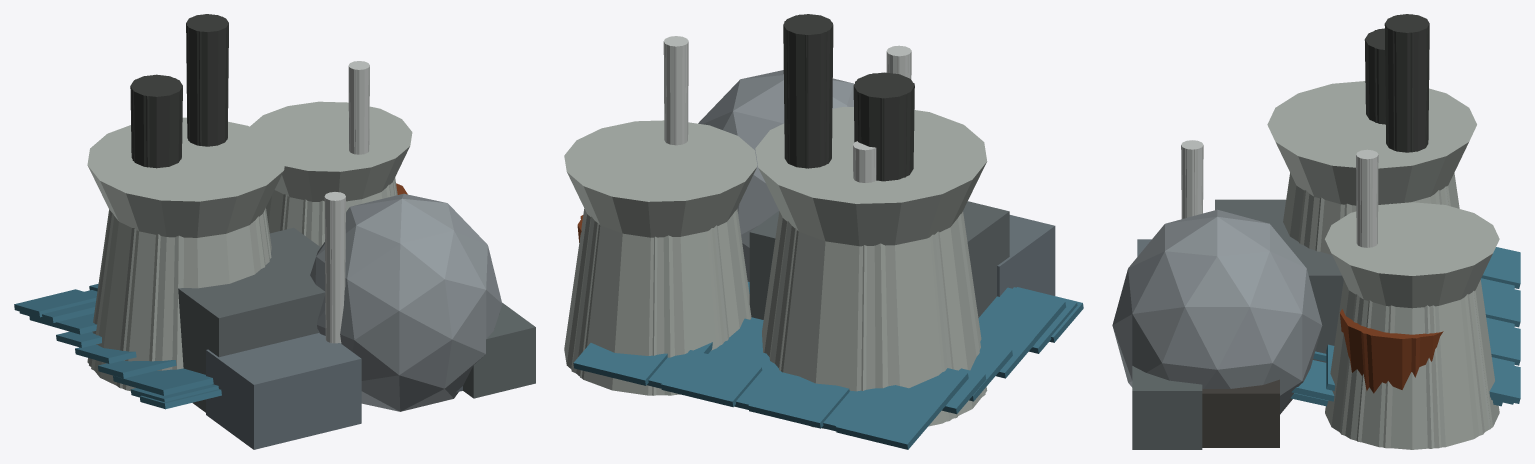
Rendered from municipal.e8ec44fbd29d.glb.
3 renders of one model, left to right at view 1: azimuth 30°, elevation 25°; view 2: azimuth 150°, elevation 25°; view 3: azimuth 270°, elevation 25°, orthographic. The views are drawn at different scales.
Parts seen in each view (by area): view 1: municipal-nuclear-campus__near, municipal-coal-campus__near, municipal-solar-campus__near, municipal-wind-campus__near, municipal-nuclear-campus__mid, municipal-solar-campus__far, municipal-solar-campus__mid, municipal-coal-campus__mid, municipal-nuclear-campus__far, municipal-wind-campus__mid; view 2: municipal-nuclear-campus__near, municipal-coal-campus__near, municipal-solar-campus__near, municipal-nuclear-campus__mid, municipal-solar-campus__mid, municipal-solar-campus__far, municipal-wind-campus__near, municipal-nuclear-campus__far, municipal-coal-campus__mid, municipal-wind-campus__mid; view 3: municipal-nuclear-campus__near, municipal-coal-campus__near, municipal-solar-campus__near, municipal-wind-campus__near, municipal-nuclear-campus__mid, municipal-coal-campus__mid, municipal-nuclear-campus__far, municipal-solar-campus__mid, municipal-wind-campus__mid.
Part boxes in pixels (x1,y1,x2,y2): municipal-nuclear-campus__near: [87, 101, 502, 449]; municipal-coal-campus__near: [130, 14, 407, 412]; municipal-solar-campus__near: [14, 283, 535, 409]; municipal-wind-campus__near: [324, 61, 462, 392]; municipal-nuclear-campus__mid: [89, 184, 390, 388]; municipal-solar-campus__far: [29, 313, 213, 395]; municipal-solar-campus__mid: [19, 290, 218, 402]; municipal-coal-campus__mid: [131, 14, 397, 189]; municipal-nuclear-campus__far: [91, 179, 396, 370]; municipal-wind-campus__mid: [325, 61, 369, 343]; municipal-nuclear-campus__near: [564, 70, 1055, 428]; municipal-coal-campus__near: [577, 14, 1009, 319]; municipal-solar-campus__near: [573, 281, 1083, 449]; municipal-nuclear-campus__mid: [571, 211, 985, 421]; municipal-solar-campus__mid: [647, 285, 1077, 431]; municipal-solar-campus__far: [708, 287, 1065, 402]; municipal-wind-campus__near: [663, 36, 911, 182]; municipal-nuclear-campus__far: [580, 209, 981, 418]; municipal-coal-campus__mid: [580, 14, 914, 220]; municipal-wind-campus__mid: [664, 36, 911, 182]; municipal-nuclear-campus__near: [1112, 81, 1499, 449]; municipal-coal-campus__near: [1202, 14, 1443, 447]; municipal-solar-campus__near: [1132, 247, 1520, 449]; municipal-wind-campus__near: [1181, 140, 1378, 247]; municipal-nuclear-campus__mid: [1298, 190, 1484, 448]; municipal-coal-campus__mid: [1341, 14, 1427, 390]; municipal-nuclear-campus__far: [1315, 186, 1490, 448]; municipal-solar-campus__mid: [1326, 278, 1514, 404]; municipal-wind-campus__mid: [1181, 142, 1377, 247].
Bounding box in the file's own units: 1.62 × 1.58 × 1.63.
